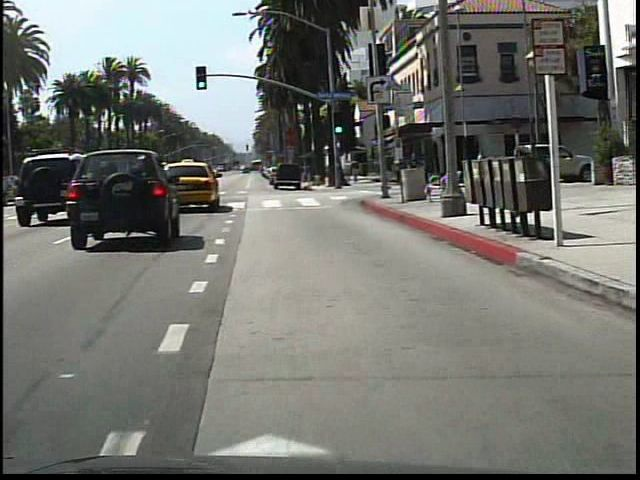person: (472, 148, 490, 192), (385, 150, 399, 194)
